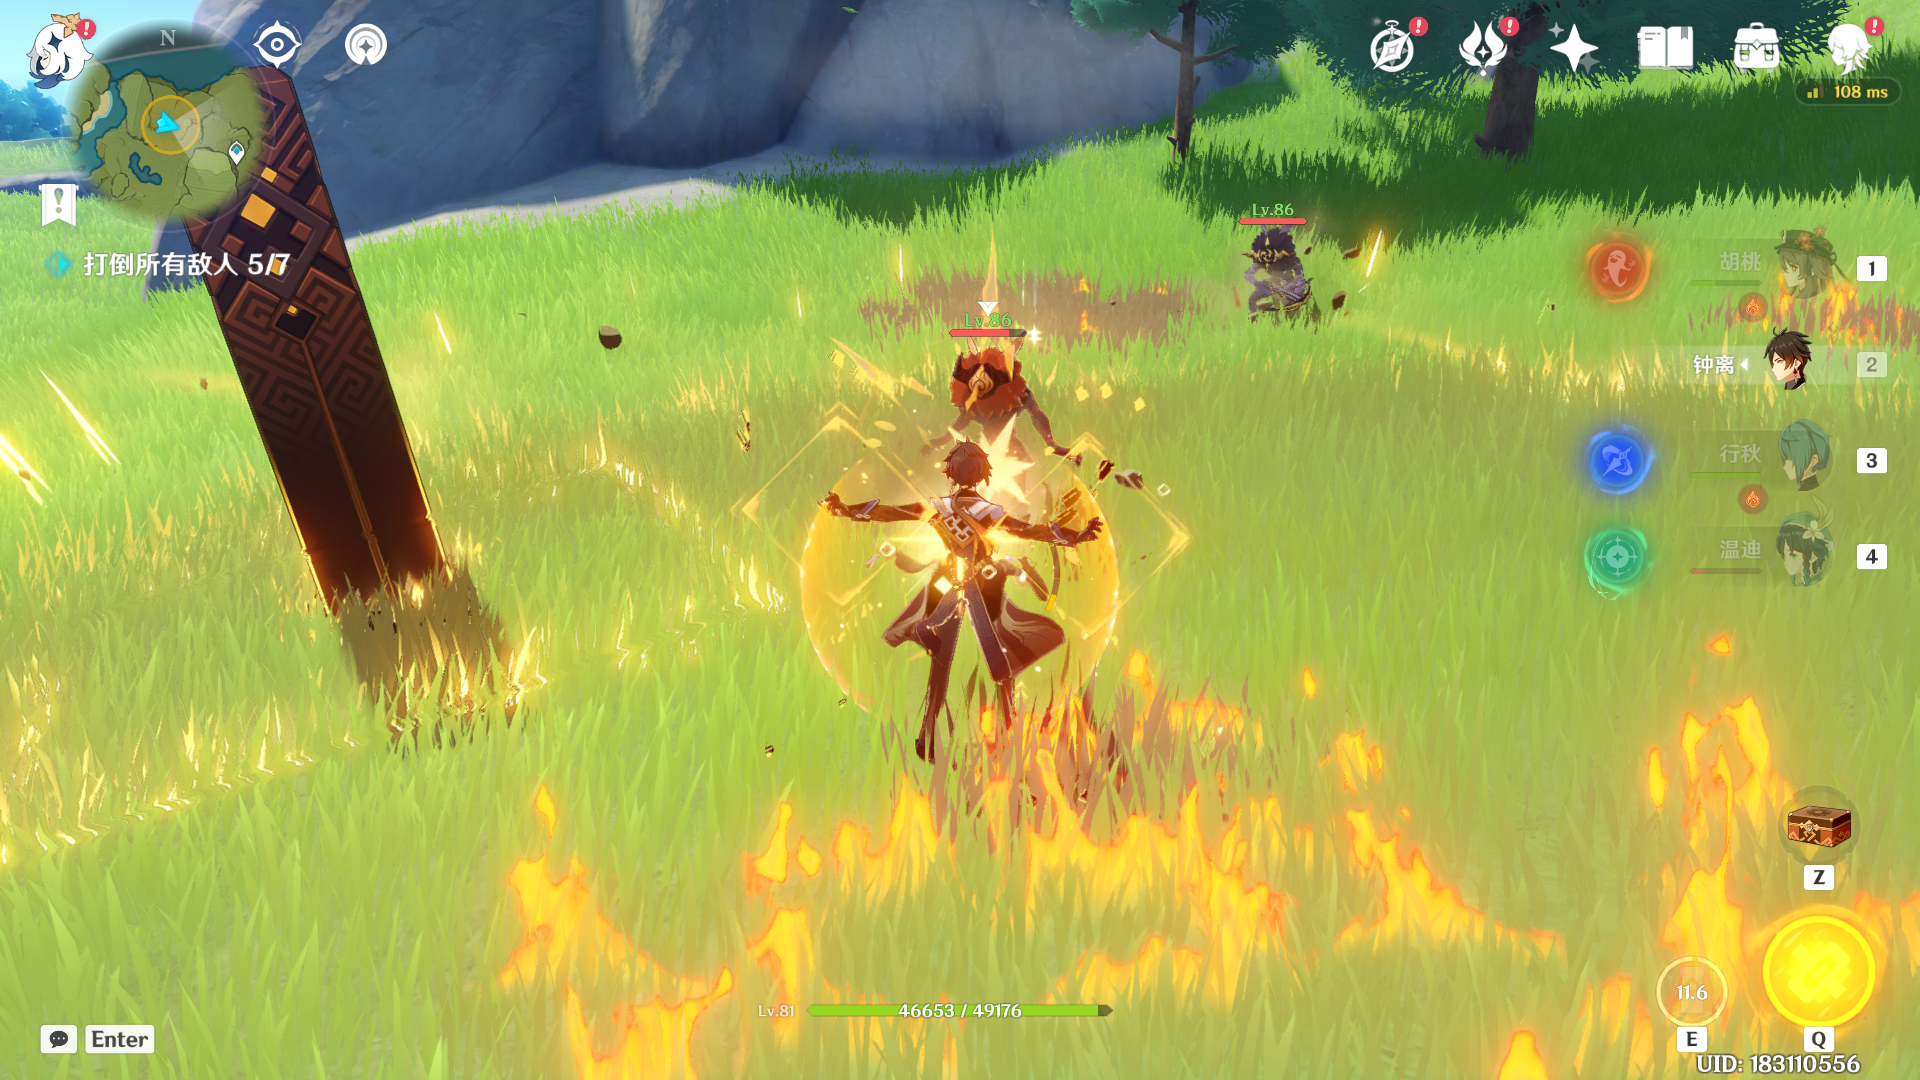character: (807, 409, 1170, 777)
hili: (916, 313, 1105, 542), (1229, 191, 1356, 373)
